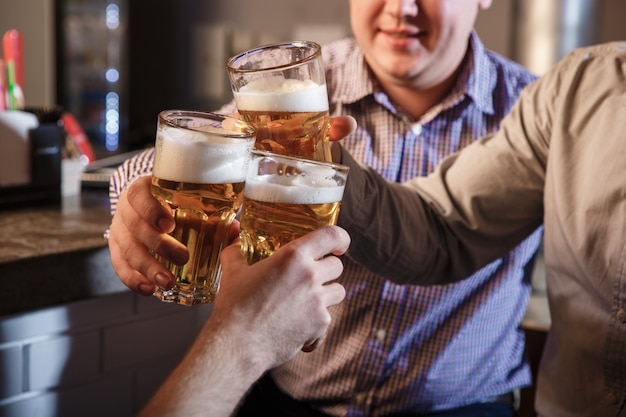alcohol: (143, 106, 259, 306), (242, 150, 351, 354), (228, 39, 329, 214)
